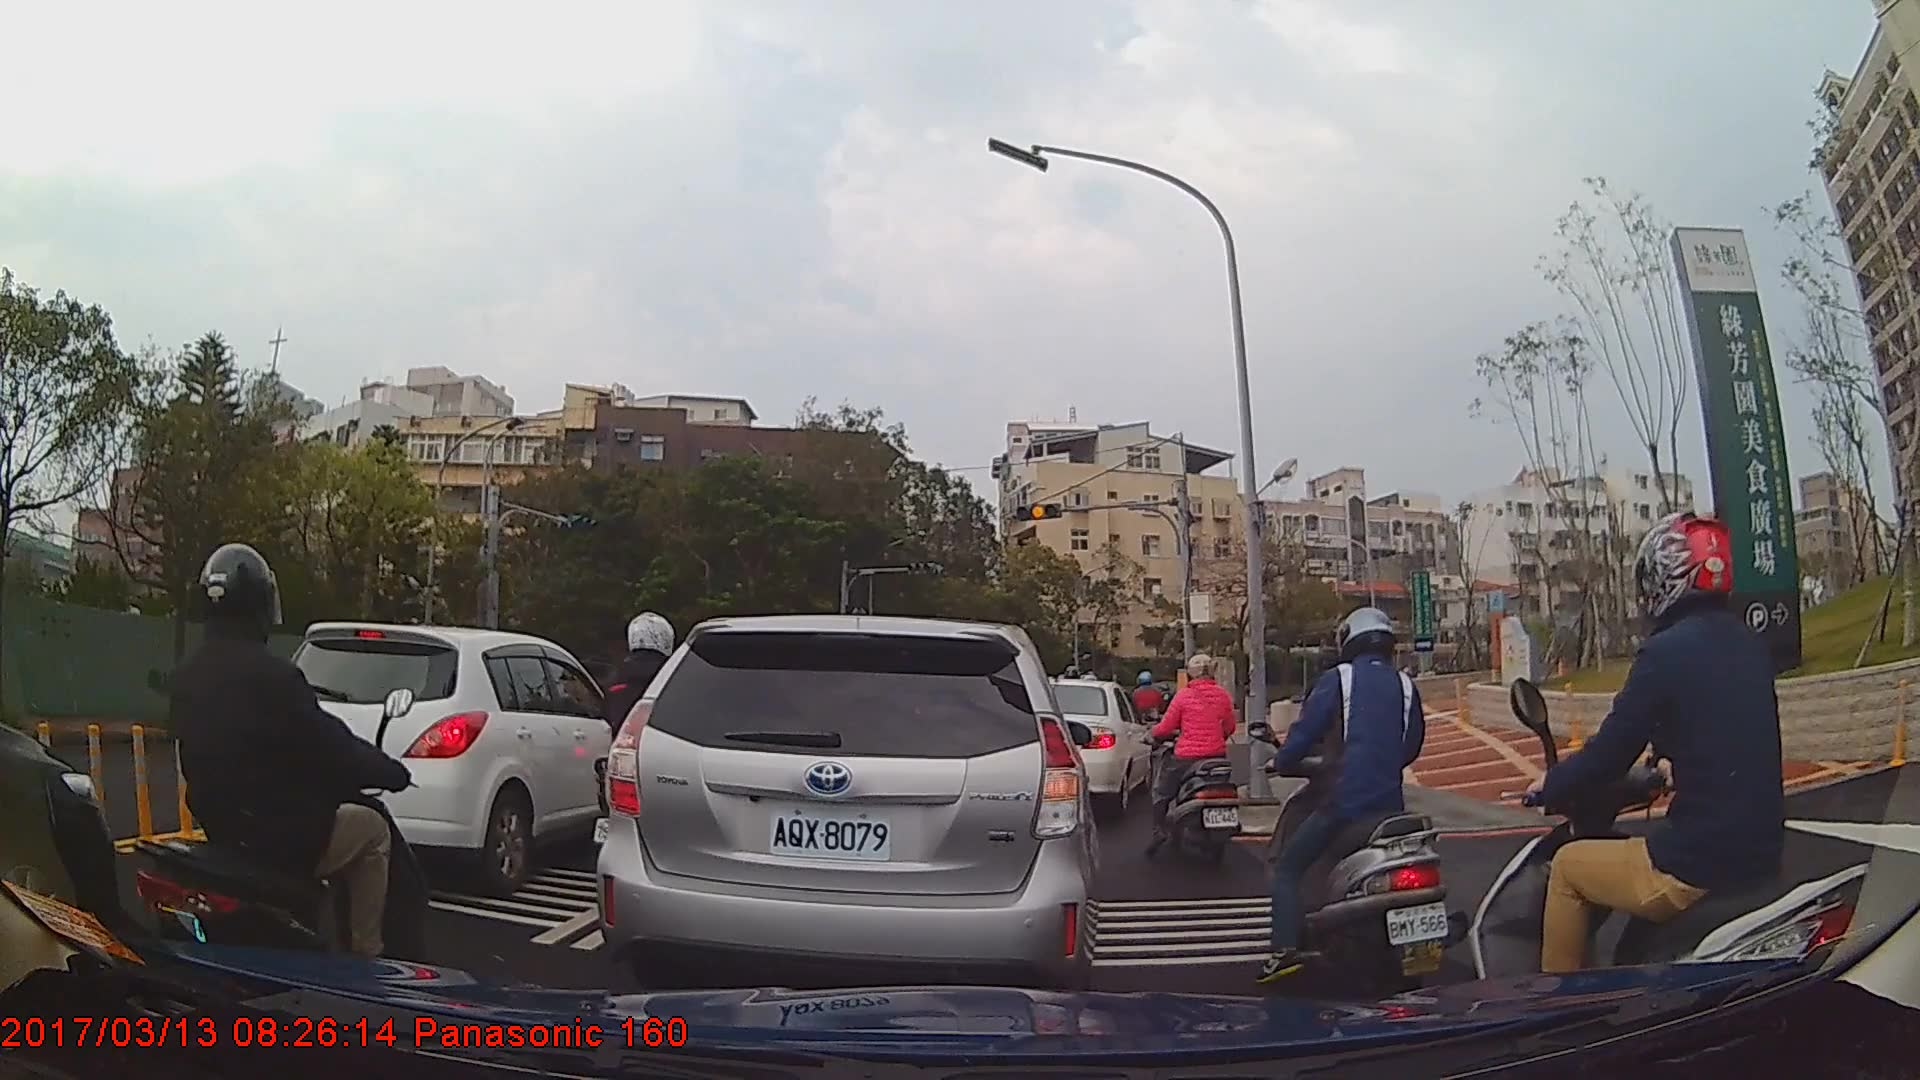rider: (1468, 511, 1879, 1056), (129, 542, 435, 1051), (1252, 606, 1454, 998), (594, 605, 706, 921), (1136, 652, 1244, 865), (1126, 670, 1168, 763)
vehicle: (596, 612, 1100, 991), (268, 620, 640, 885), (1047, 677, 1154, 814)
